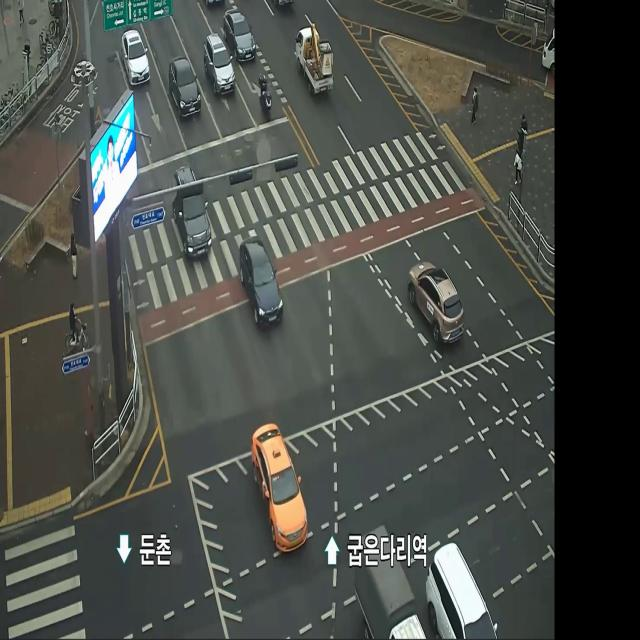bus: (253, 73, 276, 123)
motorcycle: (242, 412, 317, 573), (394, 242, 471, 364), (227, 230, 288, 347), (166, 165, 214, 269)
truck: (291, 16, 338, 104)
